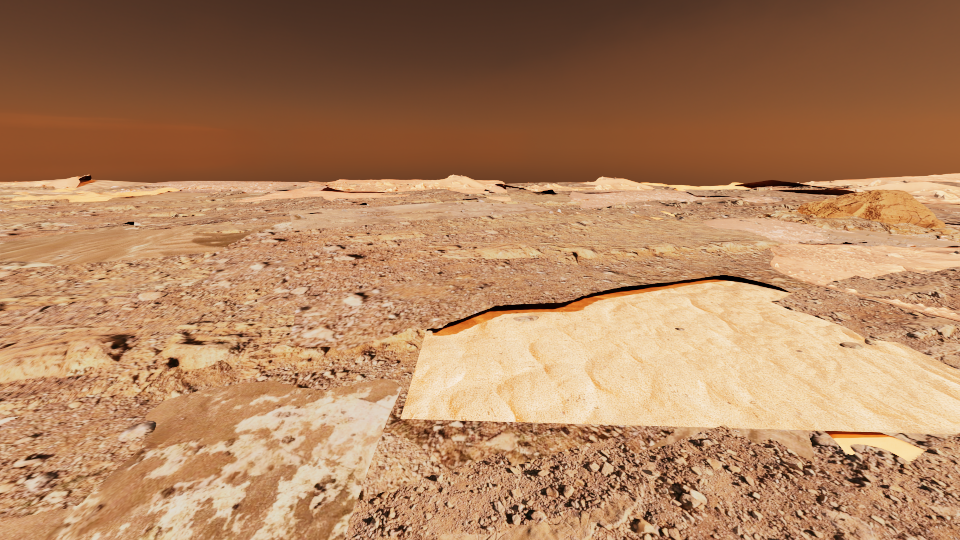bedrock: (344, 425, 959, 539), (0, 317, 426, 394), (593, 187, 959, 246), (118, 189, 591, 229), (772, 286, 959, 370), (422, 224, 779, 265), (826, 266, 959, 315), (0, 291, 123, 310), (154, 183, 320, 197), (336, 230, 470, 241), (188, 223, 271, 232), (40, 225, 116, 233), (520, 218, 573, 226), (85, 205, 190, 209), (0, 192, 52, 198), (505, 182, 552, 188), (0, 204, 35, 211), (540, 189, 571, 196), (555, 182, 596, 186), (928, 181, 959, 186), (839, 342, 863, 348), (648, 185, 675, 190), (506, 187, 532, 192), (513, 316, 538, 321), (926, 204, 959, 207), (795, 186, 825, 188), (827, 185, 853, 187)
rocks: (796, 189, 945, 228)
sand: (401, 275, 959, 462), (0, 379, 401, 539), (0, 222, 292, 269), (0, 180, 406, 203), (833, 173, 959, 183), (127, 277, 207, 291), (641, 183, 756, 190), (449, 180, 506, 193), (327, 179, 420, 184), (0, 221, 58, 228), (395, 187, 424, 191), (0, 417, 16, 424), (487, 197, 510, 200), (571, 187, 593, 189)
soil: (0, 186, 959, 350), (357, 374, 677, 502), (0, 360, 237, 522), (0, 199, 242, 242), (90, 181, 315, 192), (318, 194, 466, 209), (734, 182, 839, 195), (198, 216, 290, 228), (914, 192, 959, 213), (319, 182, 415, 191), (297, 381, 360, 389), (233, 207, 278, 215), (353, 211, 411, 216), (653, 205, 749, 207), (0, 186, 55, 189), (165, 189, 219, 192), (875, 180, 898, 185), (452, 185, 471, 188)
